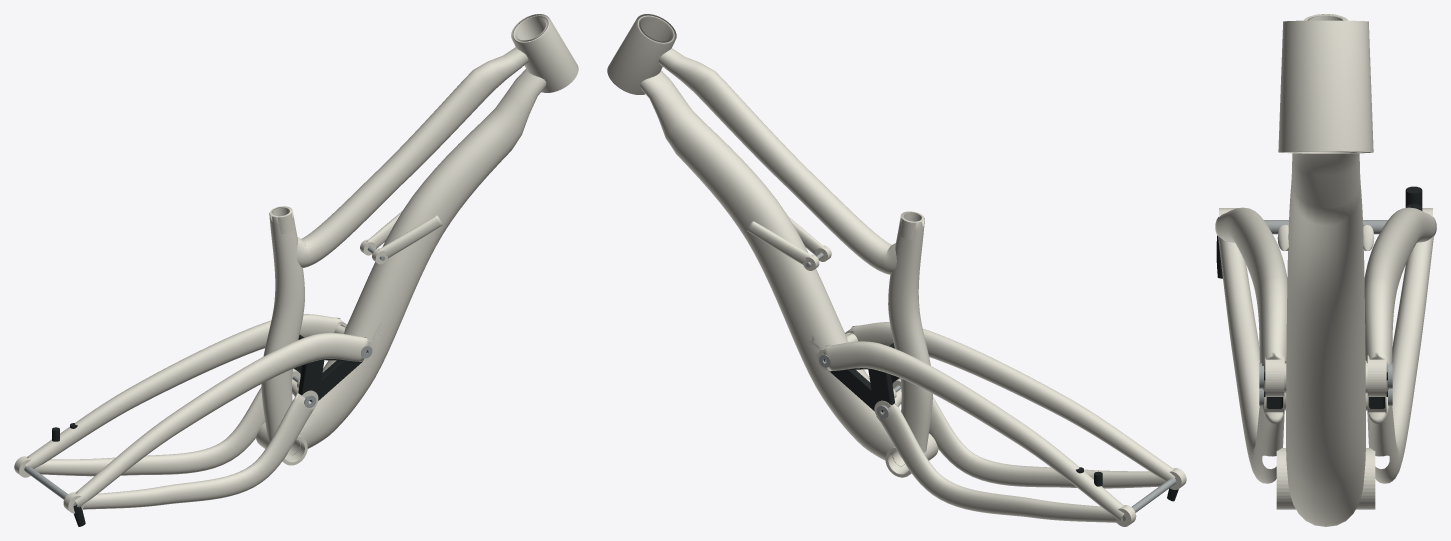
The model's file is yt-tues-mk4-carbon--l.glb.
The picture shows the model from 3 angles, left to right: view 1: azimuth 30°, elevation 25°; view 2: azimuth 150°, elevation 25°; view 3: azimuth 270°, elevation 25°; orthographic projection. The views are drawn at different scales.
Parts seen in each view (by area): view 1: yt-tues-mk4-carbon__paint_0, yt-tues-mk4-carbon__detail_1, yt-tues-mk4-carbon__detail_2; view 2: yt-tues-mk4-carbon__paint_0, yt-tues-mk4-carbon__detail_1, yt-tues-mk4-carbon__detail_2; view 3: yt-tues-mk4-carbon__paint_0, yt-tues-mk4-carbon__detail_1, yt-tues-mk4-carbon__detail_2.
Boxes of the visible parts, box(x1,y1,x2,y2) form: yt-tues-mk4-carbon__paint_0: box(14, 14, 578, 513); yt-tues-mk4-carbon__detail_1: box(52, 334, 367, 526); yt-tues-mk4-carbon__detail_2: box(24, 246, 385, 505); yt-tues-mk4-carbon__paint_0: box(607, 14, 1186, 526); yt-tues-mk4-carbon__detail_1: box(824, 343, 1178, 501); yt-tues-mk4-carbon__detail_2: box(805, 253, 1176, 521); yt-tues-mk4-carbon__paint_0: box(1215, 14, 1436, 526); yt-tues-mk4-carbon__detail_1: box(1216, 186, 1422, 408); yt-tues-mk4-carbon__detail_2: box(1259, 220, 1392, 405).
Size of the model in its own units: 1.03 by 0.7101 by 0.1863.
5 materials, 2 textured.
